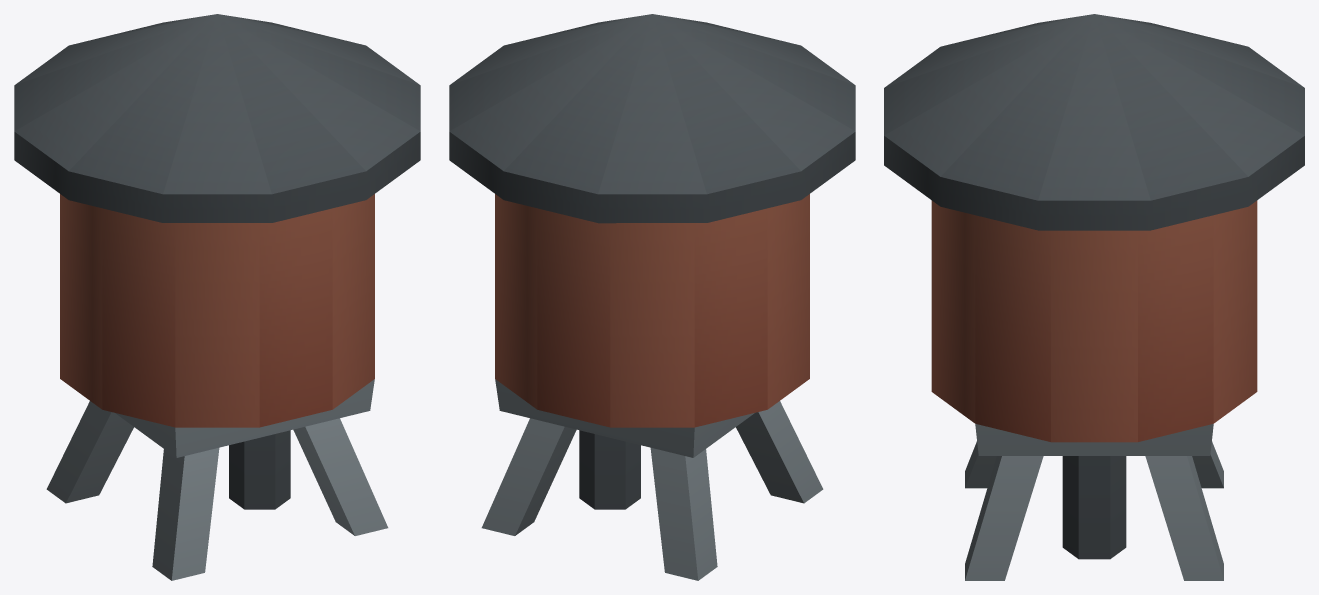
Rendered from Watertower.glb.
3 views of the same model, side by side, from view 1: azimuth 30°, elevation 25°; view 2: azimuth 150°, elevation 25°; view 3: azimuth 270°, elevation 25° (orthographic). The views are drawn at different scales.
Visible parts, largest first — view 1: watertower; view 2: watertower; view 3: watertower.
Part boxes in pixels (x1,y1,x2,y2): watertower: [14, 14, 420, 580]; watertower: [449, 14, 855, 580]; watertower: [884, 14, 1304, 580].
Bounding box in the file's own units: 0.4989 × 0.67 × 0.4989.
Materials: 1 (1 with a texture image).
